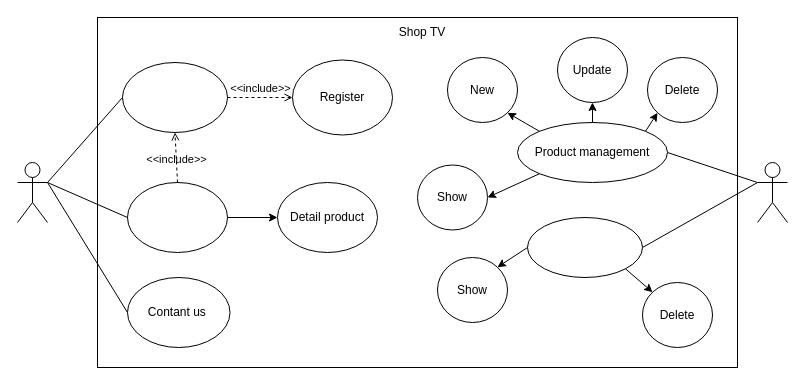
Some shapes in this 807 by 385 pixel diagram are drawn without their labels. Here are the shapes that lost their labels. From the top down, the box of each, then its label:
(122, 62, 228, 132): Login
(16, 162, 48, 222): User
(756, 162, 788, 222): Admin
(126, 182, 228, 252): Product view
(526, 216, 642, 278): User management
